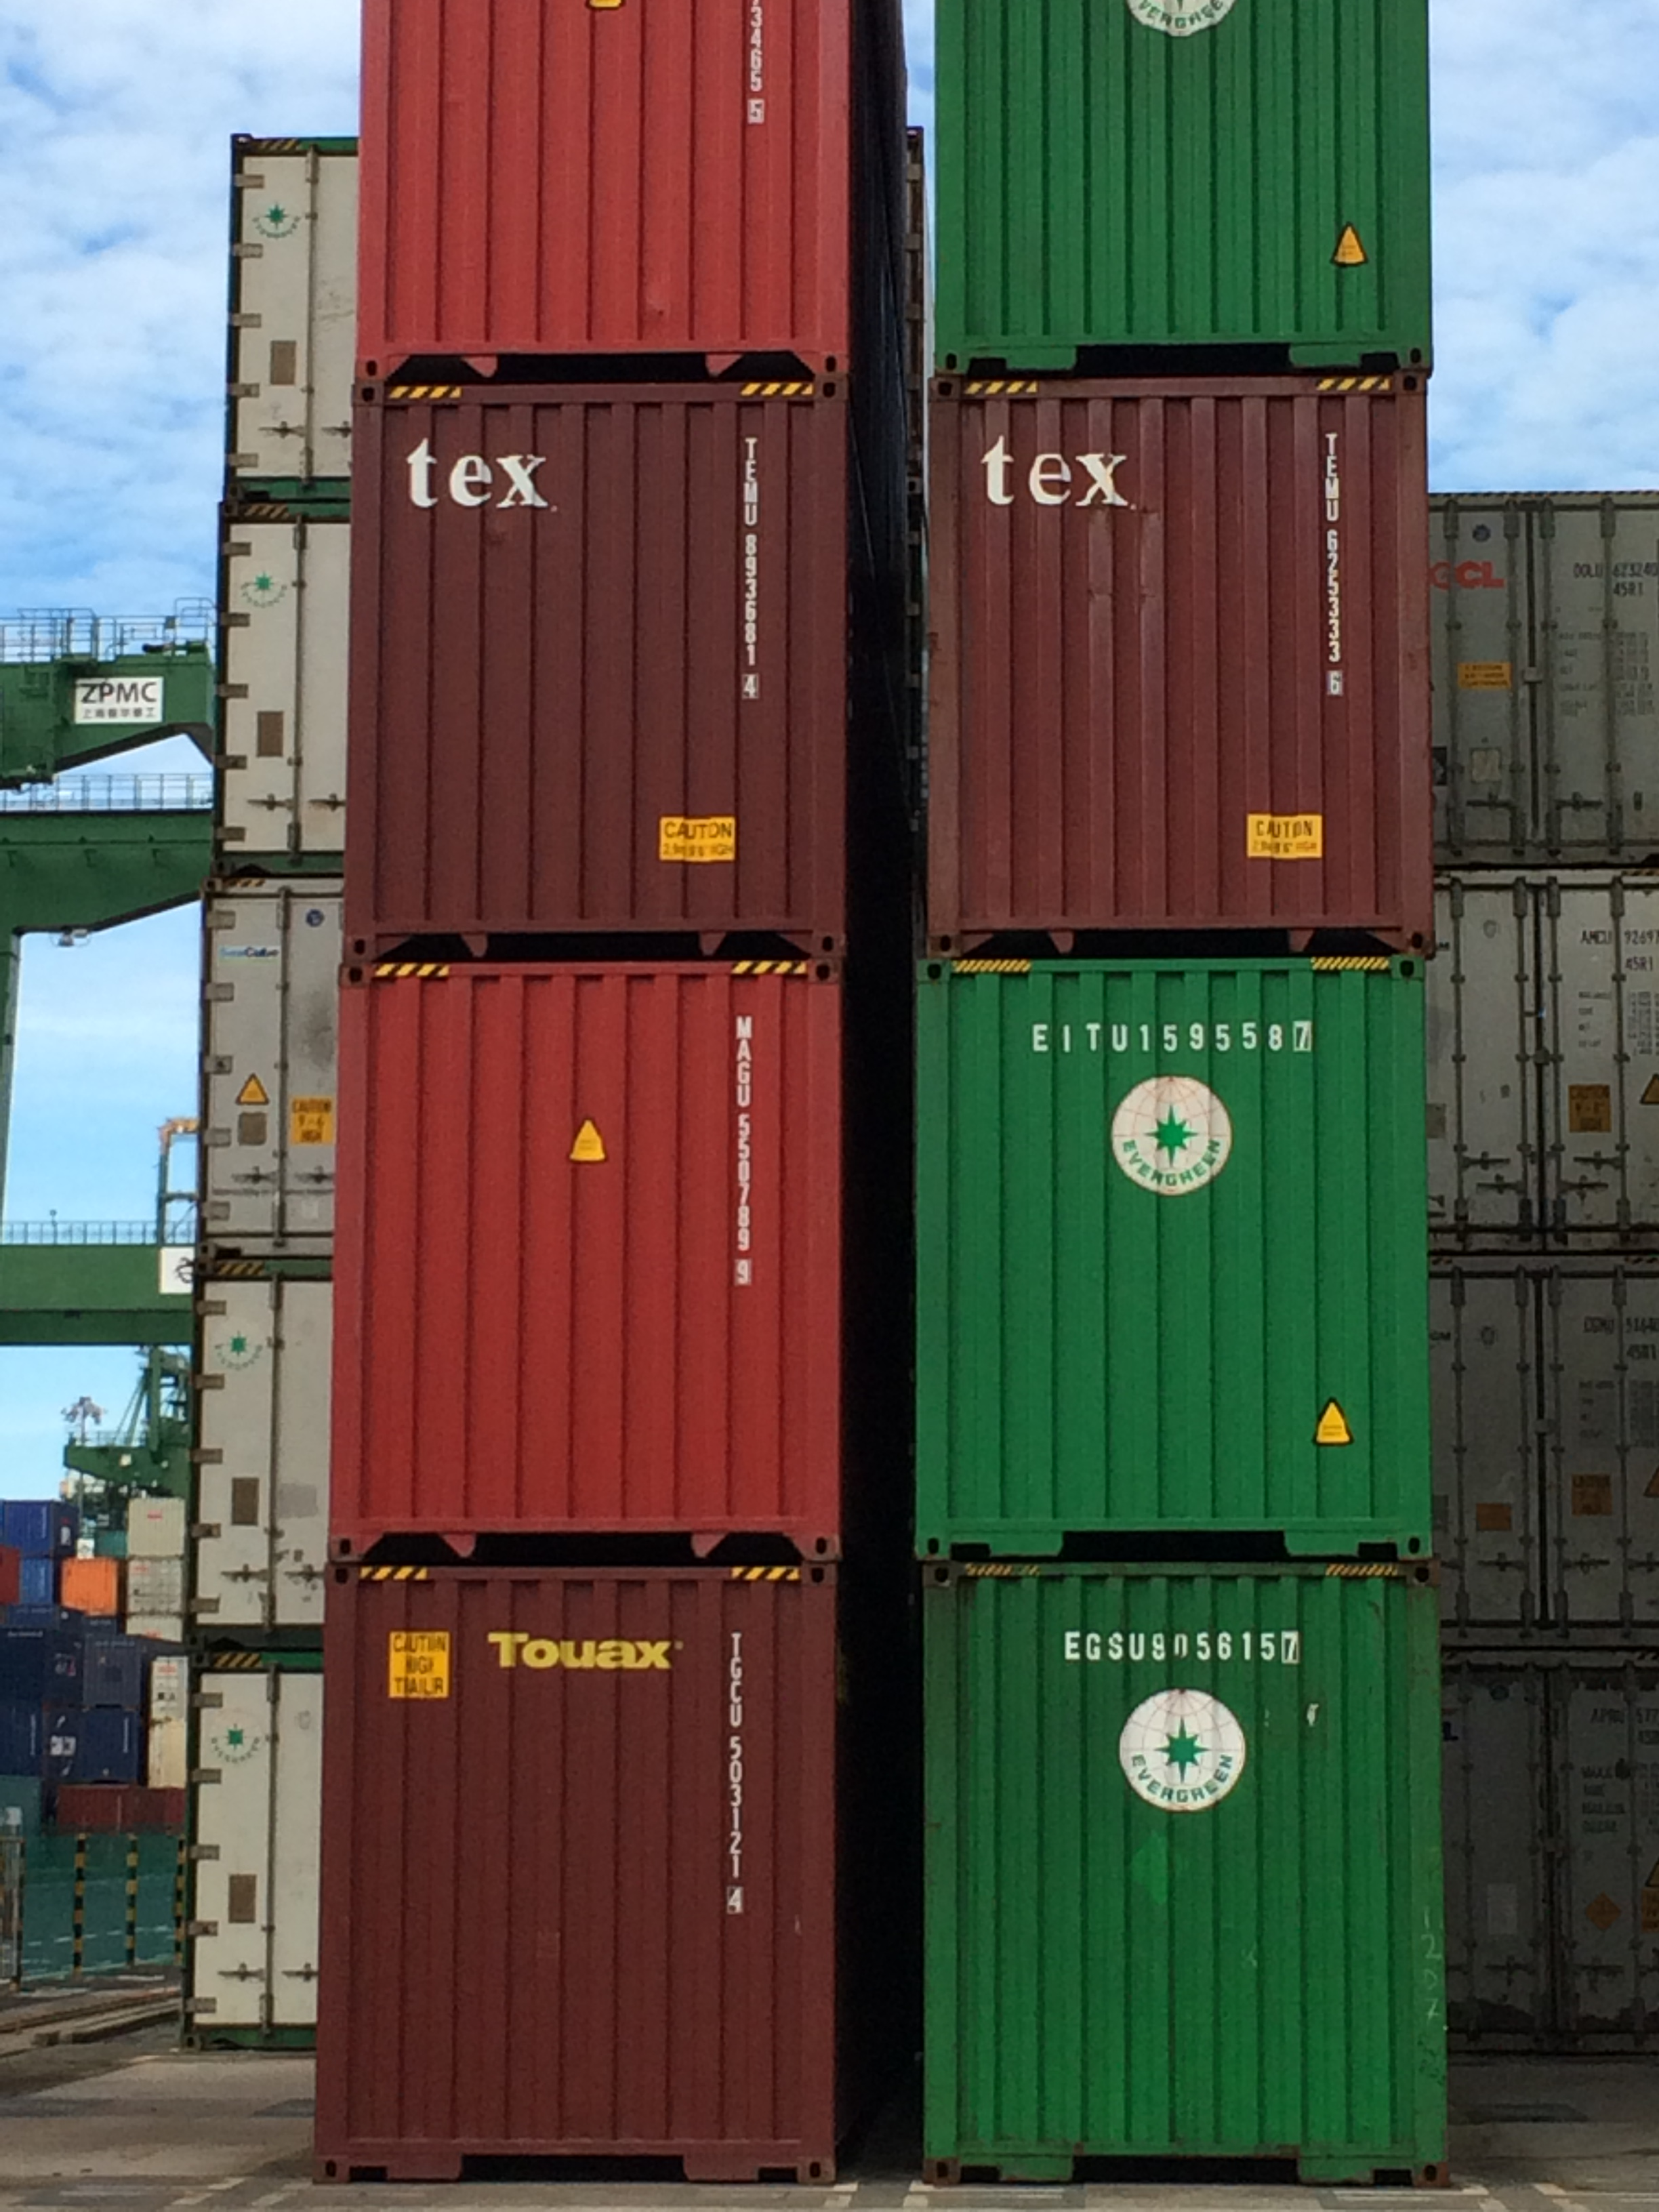container_door: (1434, 1254, 1656, 1667), (1436, 864, 1659, 1259), (1436, 491, 1659, 859), (1455, 1674, 1659, 2064), (188, 864, 347, 1254), (178, 1252, 336, 1642), (174, 1653, 333, 2041), (214, 496, 349, 860), (216, 127, 349, 491)
container_no_door: (312, 1568, 849, 2186), (915, 1569, 1452, 2188), (917, 951, 1427, 1559), (336, 956, 838, 1554), (352, 376, 852, 958), (931, 371, 1427, 954), (931, 0, 1427, 376), (354, 0, 850, 376)
